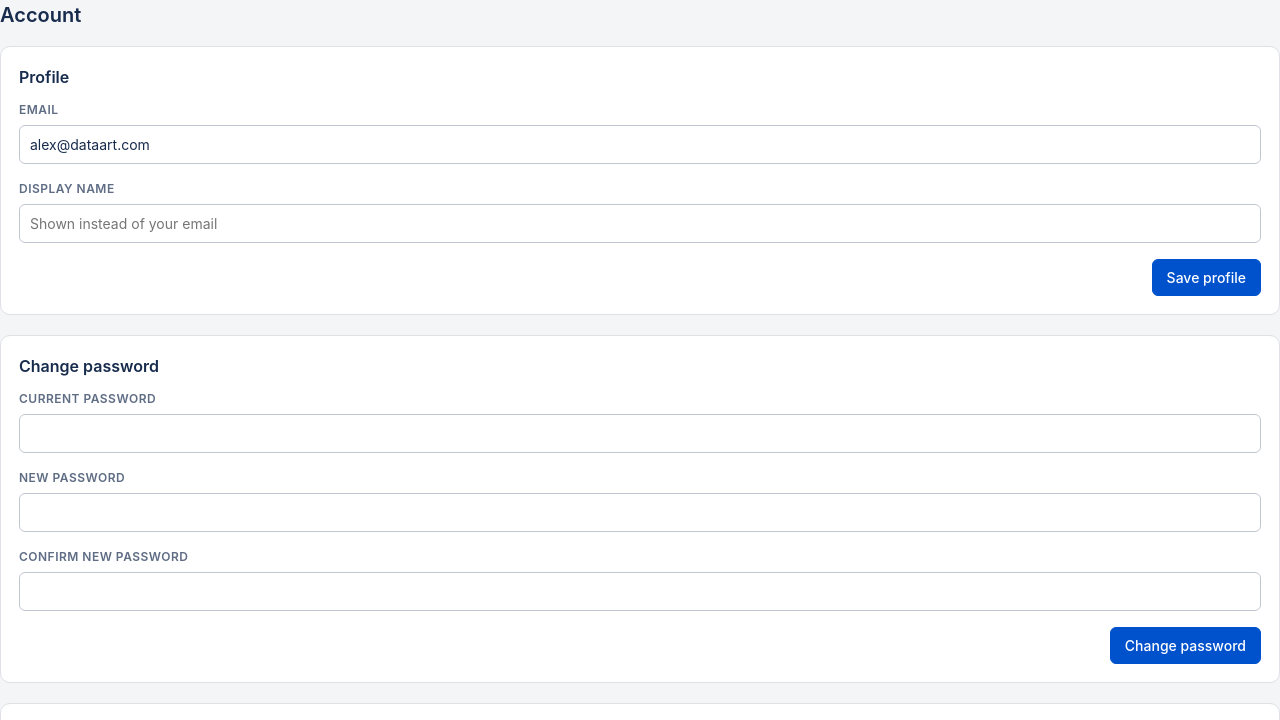
Test: AccountPage — change password › maps a 401 invalid_credentials to a "current password is incorrect" field error
Expected: the field showing "alex@dataart.com" is shown, [19, 125, 1261, 164]
Type "wrong password" into the password field labelled "Current password" at (640, 434), box [19, 414, 1261, 453]
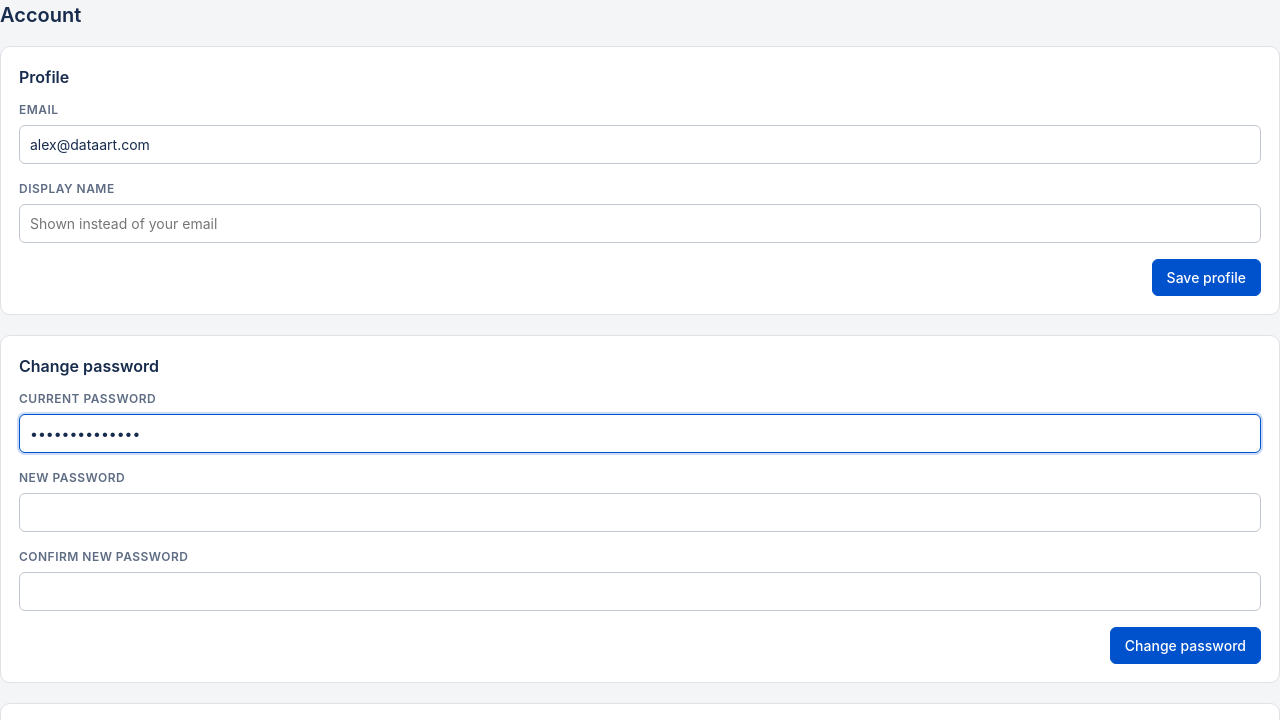
Type "a valid new password" into the password field labelled "New password" at (640, 512), box [19, 493, 1261, 532]
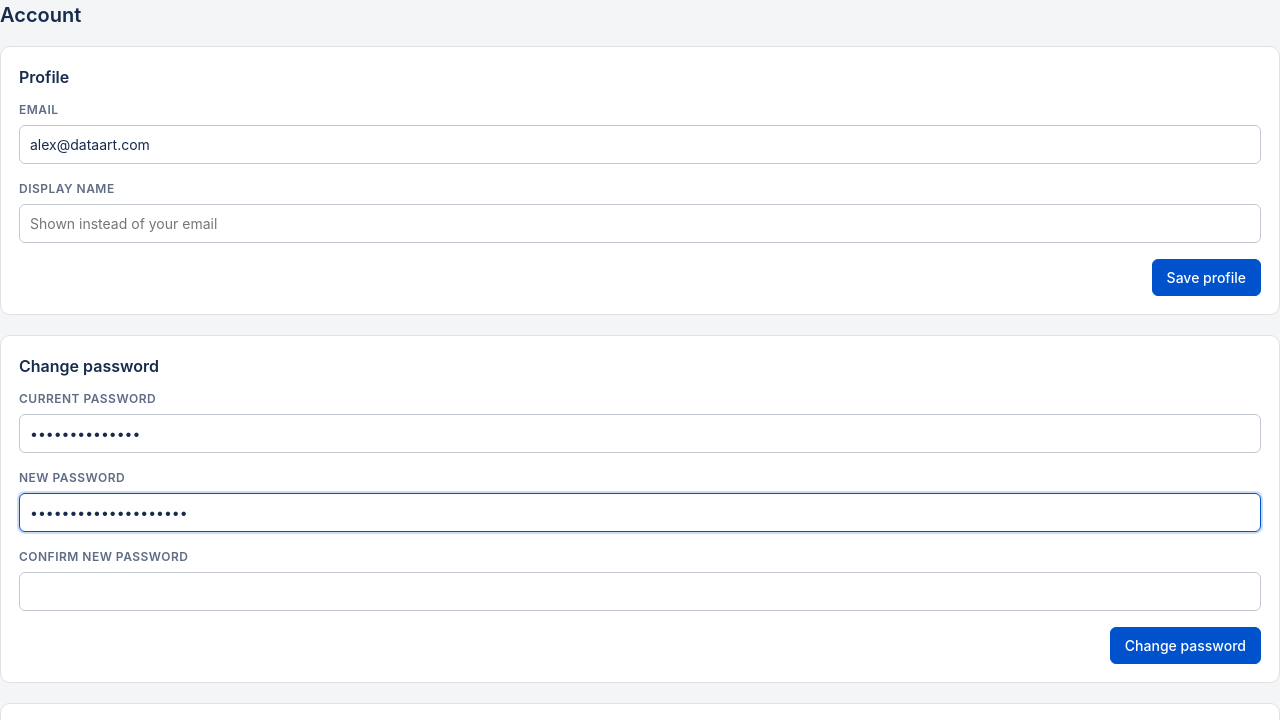
Type "a valid new password" into the password field labelled "Confirm new password" at (640, 592), box [19, 572, 1261, 611]
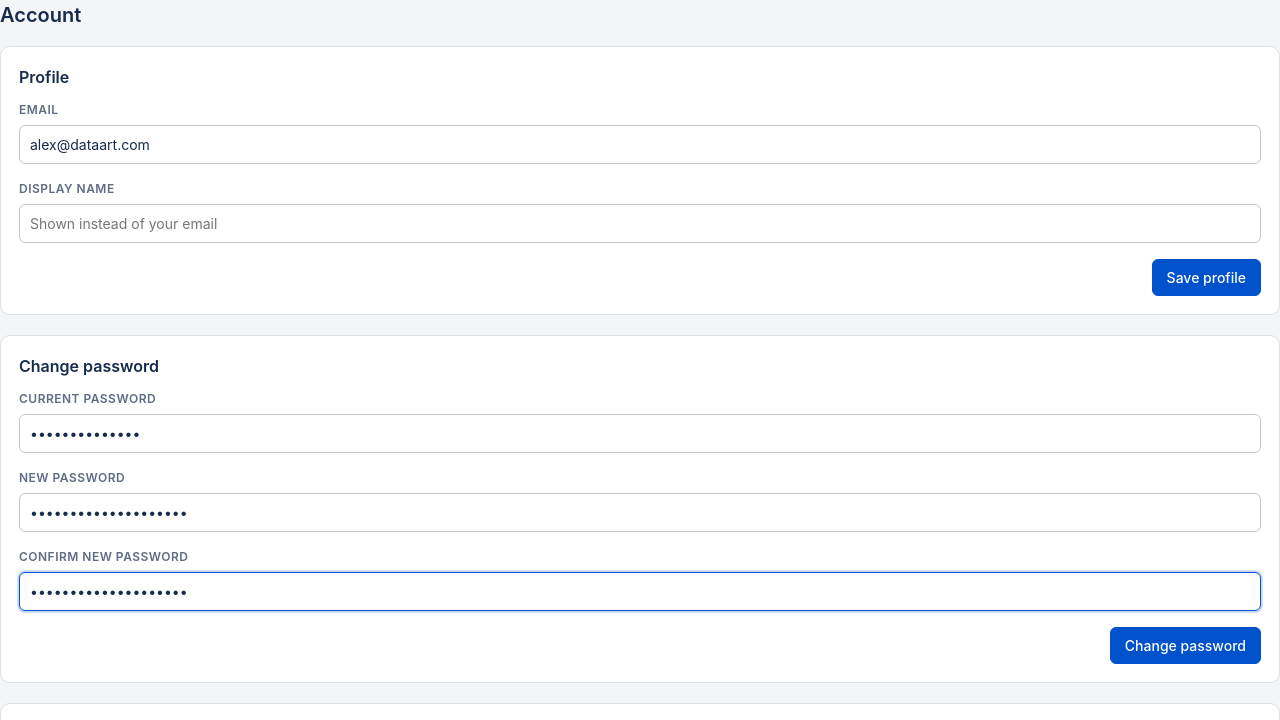
Click the button "Change password" at (1185, 646), box [1110, 627, 1261, 664]
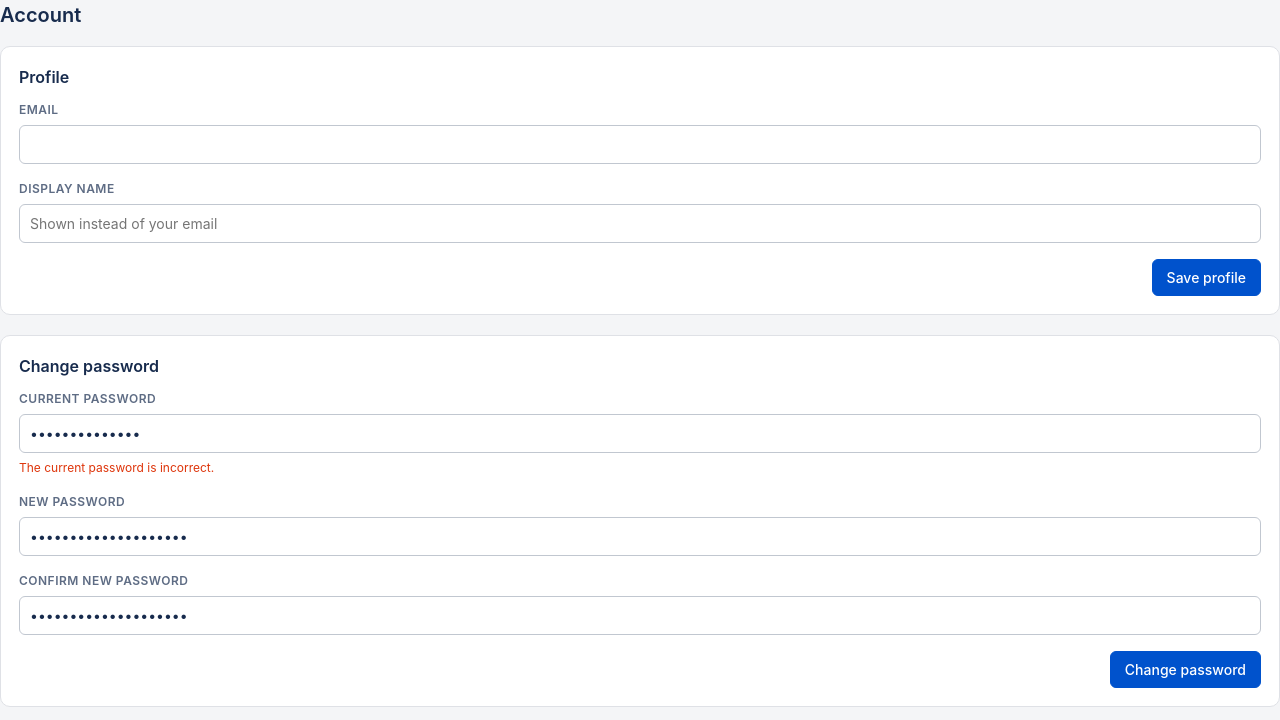
Now the text "The current password is incorrect." is shown, box [19, 460, 214, 475]
